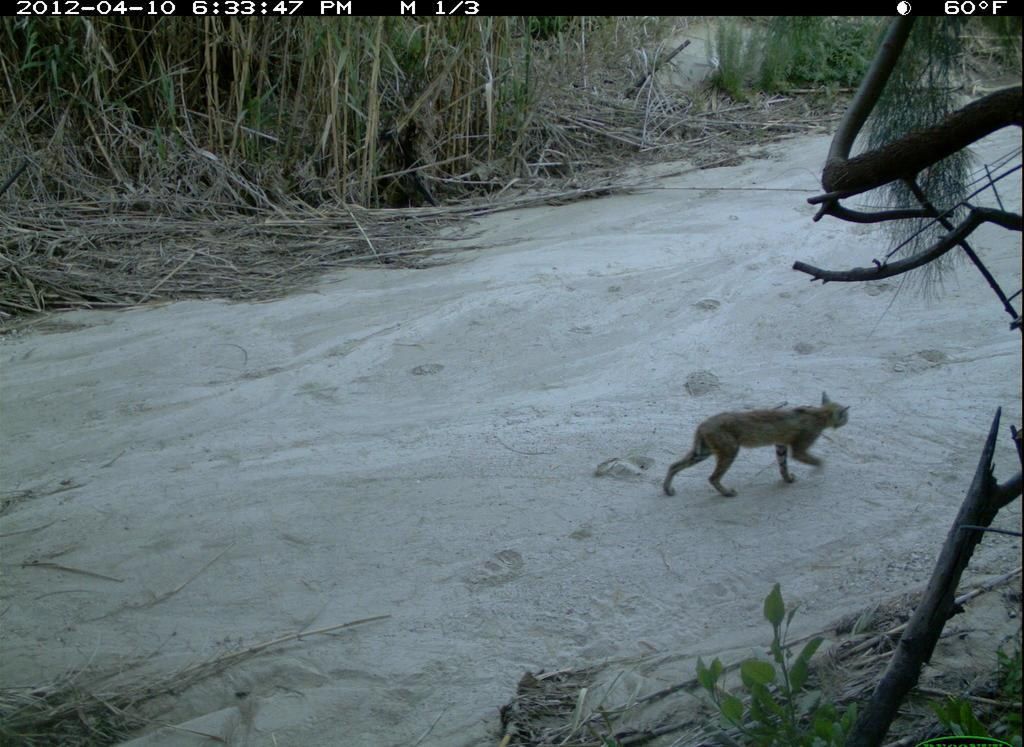bobcat: (657, 386, 866, 510)
